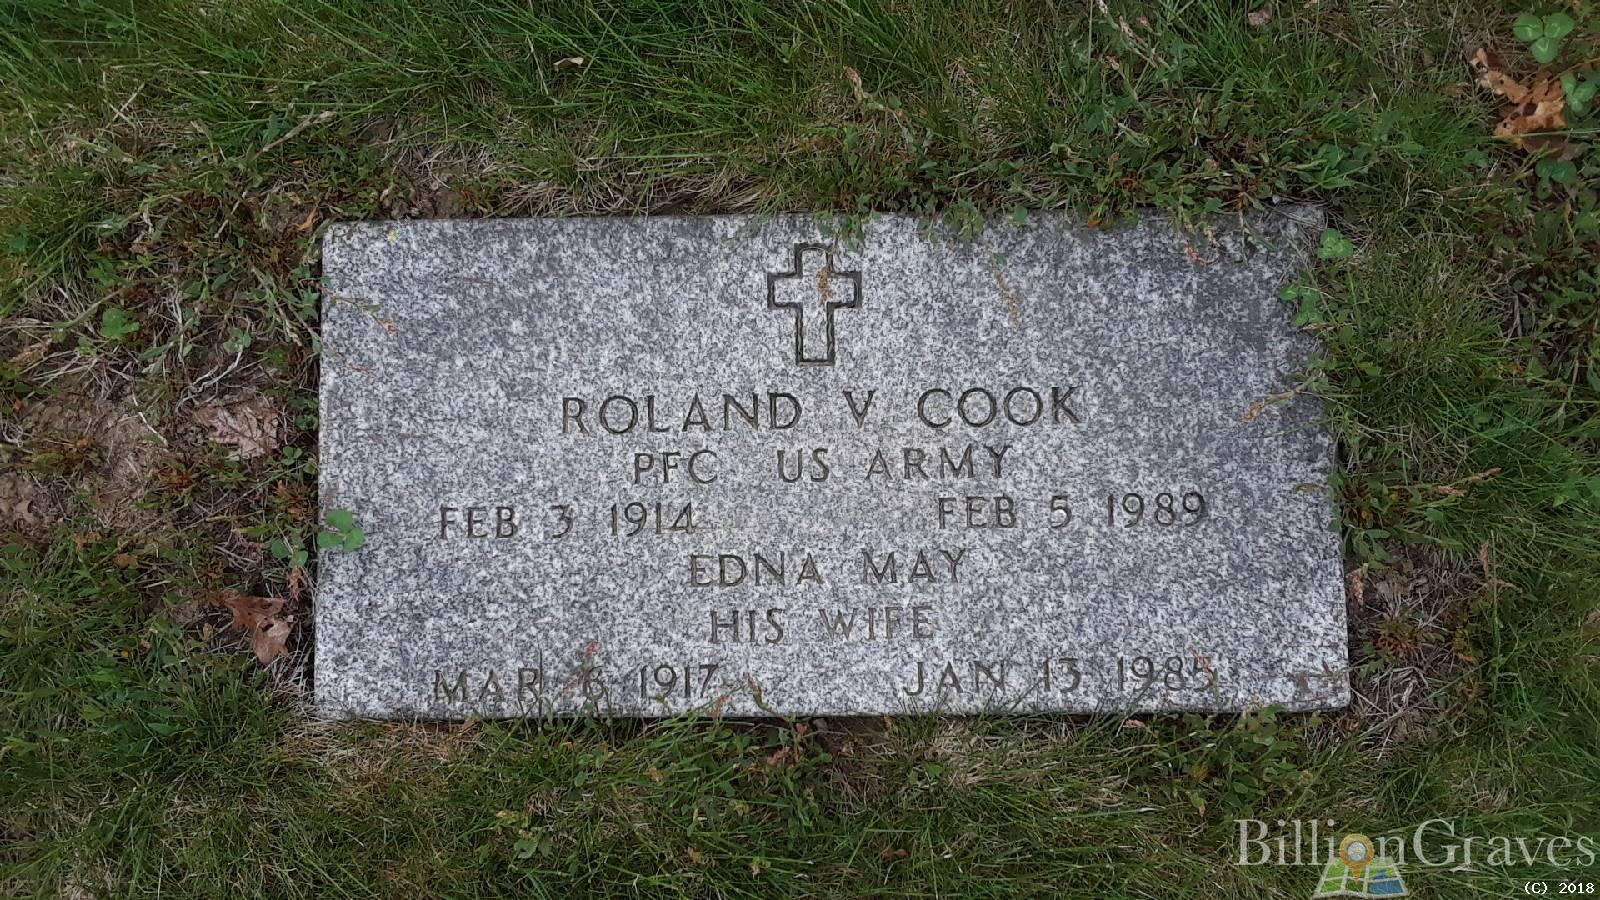flat: (279, 187, 1362, 742)
